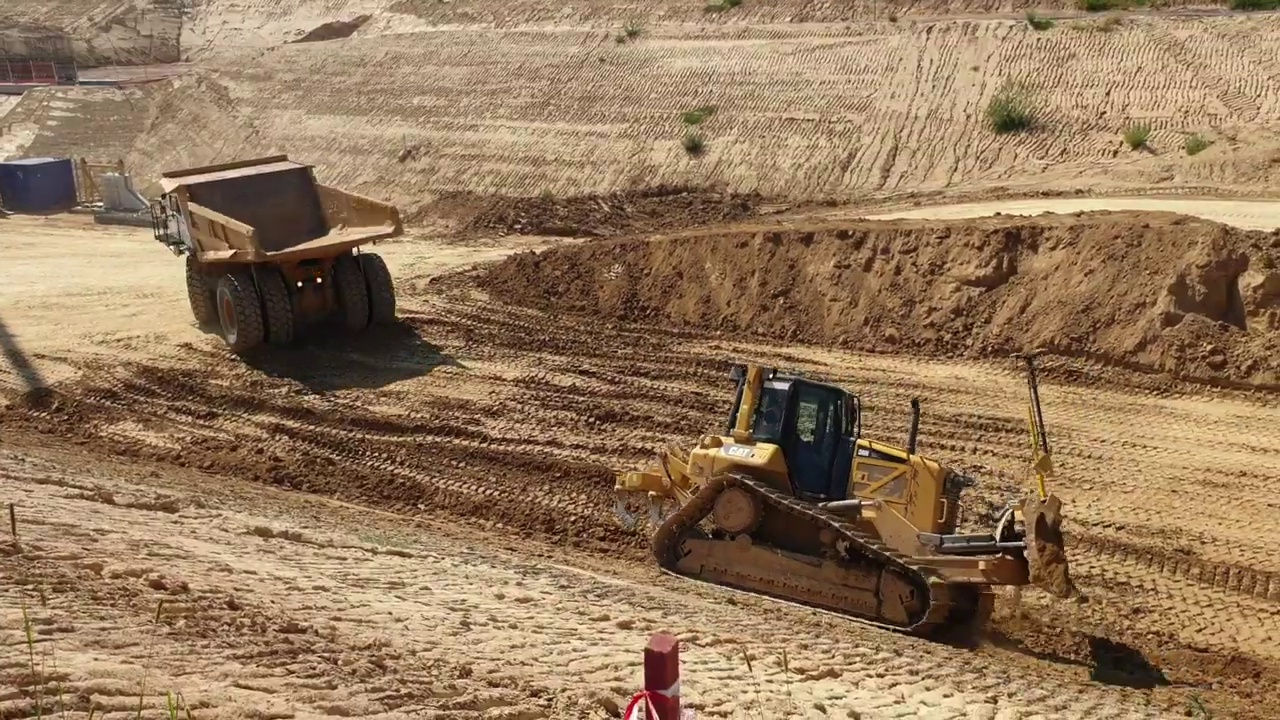bulldozer: (609, 344, 1077, 647)
truck: (146, 151, 411, 358)
